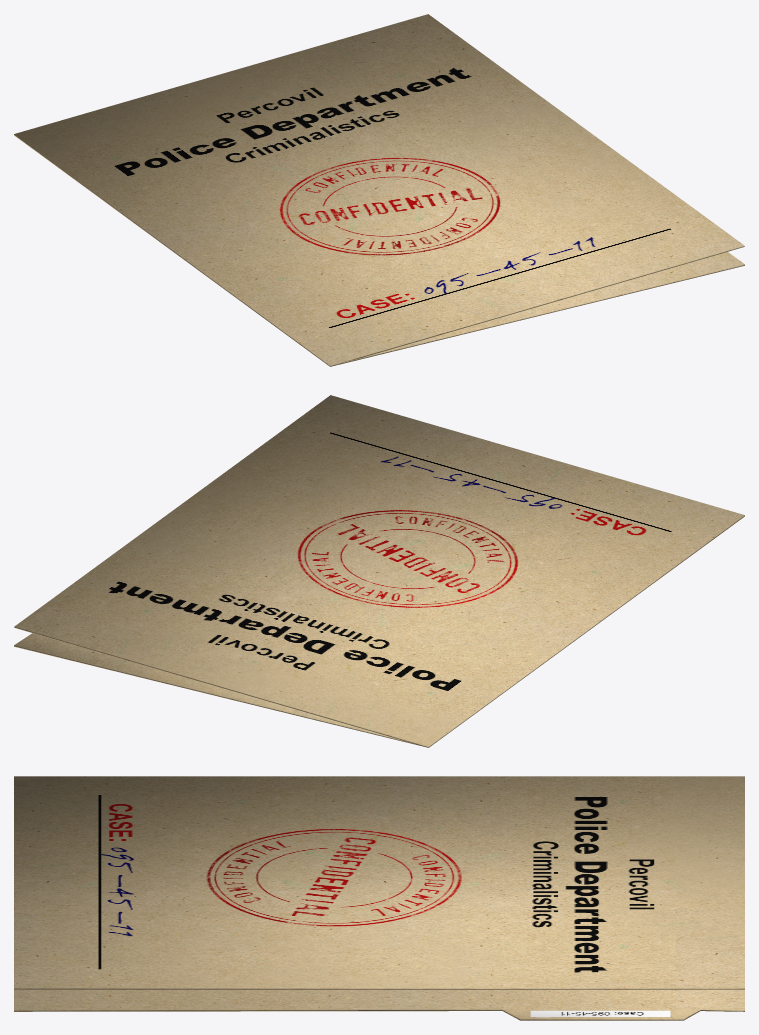
File: FileFolder.fbx
3 renders of one model, top to bottom at view 1: azimuth 30°, elevation 25°; view 2: azimuth 150°, elevation 25°; view 3: azimuth 270°, elevation 25°, orthographic. The views are drawn at different scales.
Parts seen in each view (by area): view 1: File Folder.001, File Folder; view 2: File Folder.001, File Folder; view 3: File Folder.001, File Folder.
Boxes of the visible parts, x1,y1,x2,y2 form: File Folder.001: (14,14,744,366); File Folder: (330,252,744,366); File Folder.001: (14,395,744,747); File Folder: (14,633,424,746); File Folder.001: (14,776,744,989); File Folder: (14,989,744,1020).
Bounding box in the file's own units: 571 × 26 × 726.
Materials: 2 (2 with a texture image).
